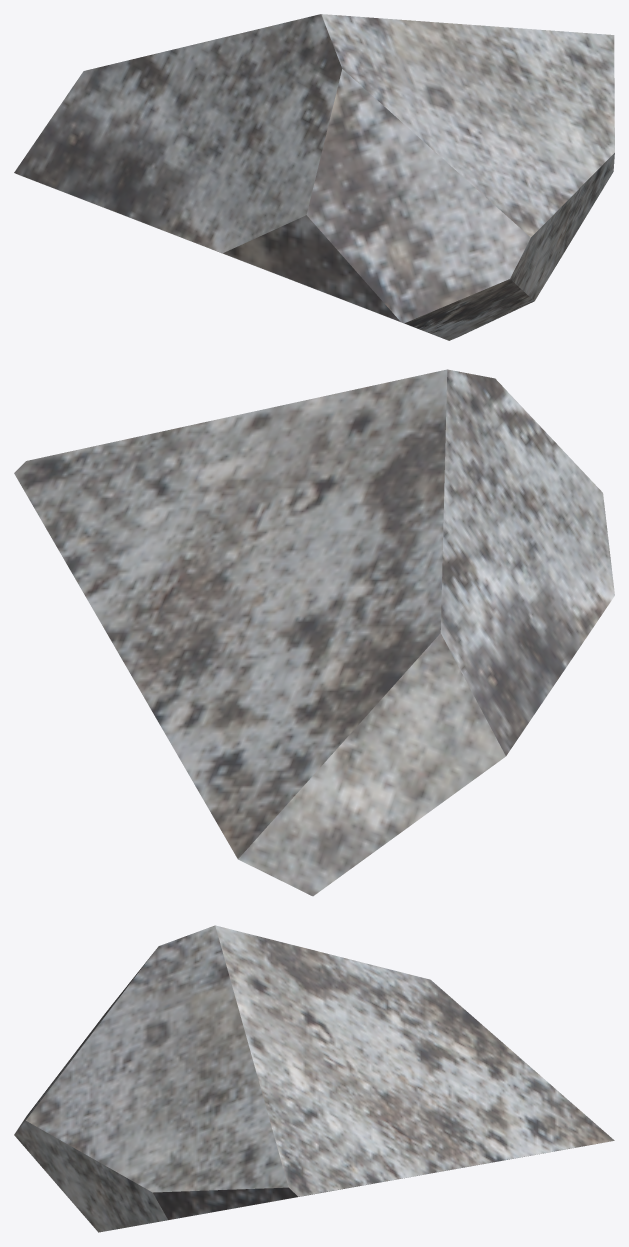
Rendered from Asteroid_Large_001_02_008_03_010.fbx.
The picture shows the model from 3 angles, top to bottom: view 1: azimuth 30°, elevation 25°; view 2: azimuth 150°, elevation 25°; view 3: azimuth 270°, elevation 25°; orthographic projection. The views are drawn at different scales.
Parts seen in each view (by area): view 1: Asteroid_Large_001_02_008_03_010; view 2: Asteroid_Large_001_02_008_03_010; view 3: Asteroid_Large_001_02_008_03_010.
Boxes of the visible parts, box(x1,y1,x2,y2) form: Asteroid_Large_001_02_008_03_010: box(14, 14, 614, 340); Asteroid_Large_001_02_008_03_010: box(14, 369, 614, 896); Asteroid_Large_001_02_008_03_010: box(14, 925, 614, 1232).
Bounding box in the file's own units: 7.69 × 4.33 × 8.71.
